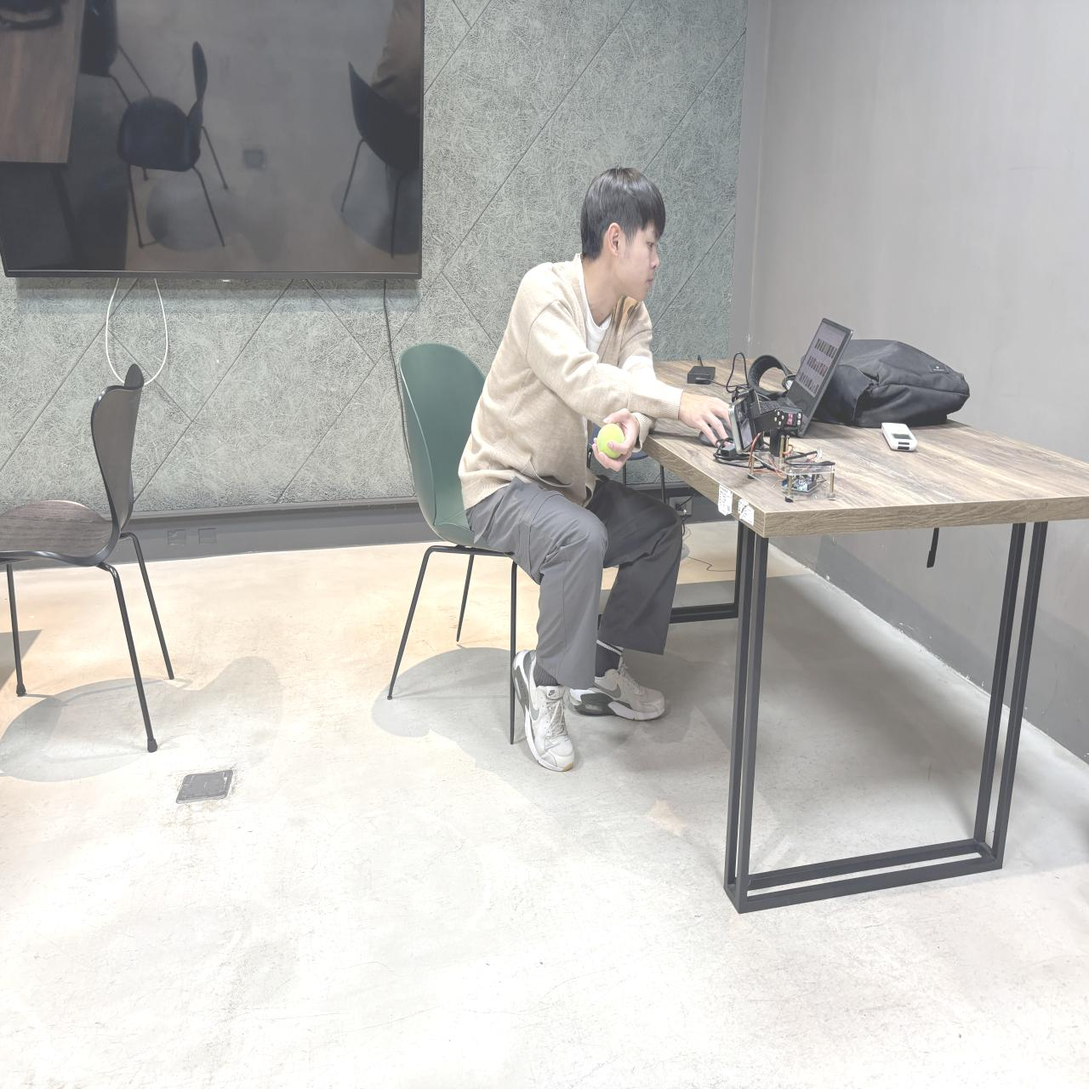tennisball: (597, 424, 624, 457)
